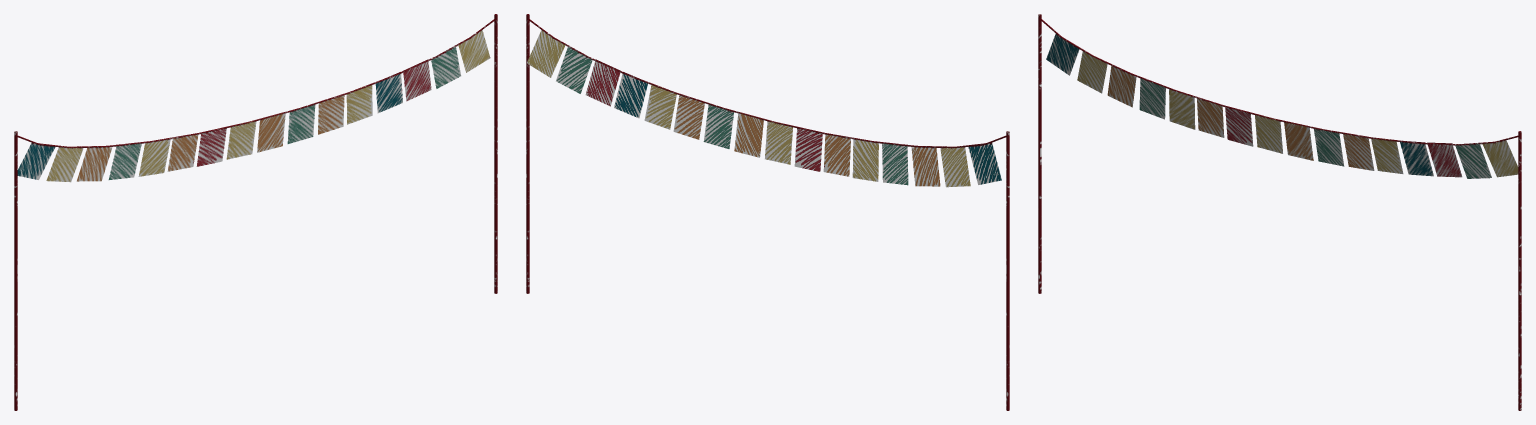
Rendered from flag_2024.glb.
3 renders of one model, left to right at view 1: azimuth 30°, elevation 25°; view 2: azimuth 150°, elevation 25°; view 3: azimuth 330°, elevation 25°, orthographic.
Visible parts, largest first — view 1: Cylinder; view 2: Cylinder; view 3: Cylinder.
Boxes of the visible parts, box(x1,y1,x2,y2) form: Cylinder: box(14, 14, 497, 410); Cylinder: box(526, 14, 1009, 410); Cylinder: box(1038, 14, 1521, 410).
Size of the model in its own units: 6.72 by 3.7 by 0.1022.
1 material, 1 textured.
